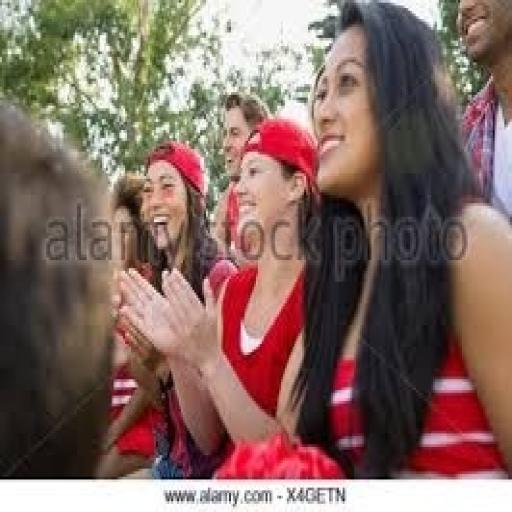clapping: (288, 0, 510, 479), (112, 114, 323, 477), (102, 138, 229, 477)
